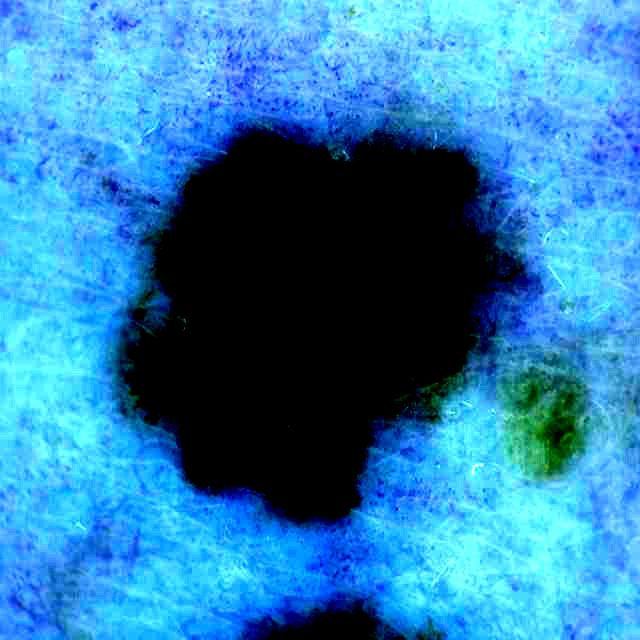MEL: (123, 141, 586, 513)
